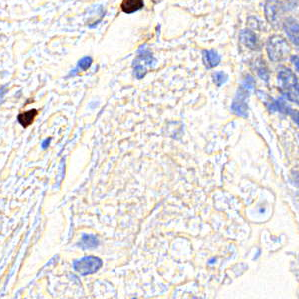Lymphocyte: (16, 108, 39, 131)
